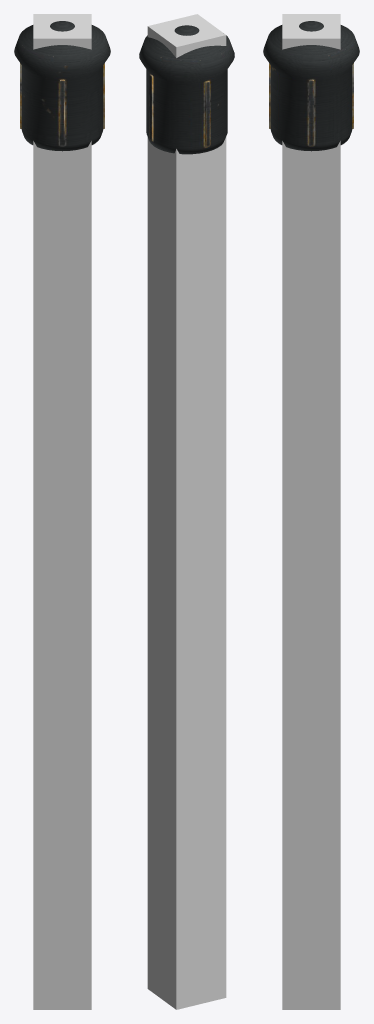
File: p5_lamp.glb
The picture shows the model from 3 angles, left to right: view 1: azimuth 90°, elevation 25°; view 2: azimuth 210°, elevation 25°; view 3: azimuth 270°, elevation 25°; orthographic projection.
Visible parts, largest first — view 1: p5_lamp_COL, p5_lamp_LOD0; view 2: p5_lamp_COL, p5_lamp_LOD0; view 3: p5_lamp_COL, p5_lamp_LOD0.
Boxes of the visible parts, x1,y1,x2,y2 form: p5_lamp_COL: (33,14,91,1009); p5_lamp_LOD0: (14,21,110,151); p5_lamp_COL: (147,14,226,1009); p5_lamp_LOD0: (139,25,234,154); p5_lamp_COL: (282,14,340,1009); p5_lamp_LOD0: (263,21,359,151).
Size of what is drawn, in the model's own units: 0.4 by 4.44 by 0.4.
1 material, 1 textured.
